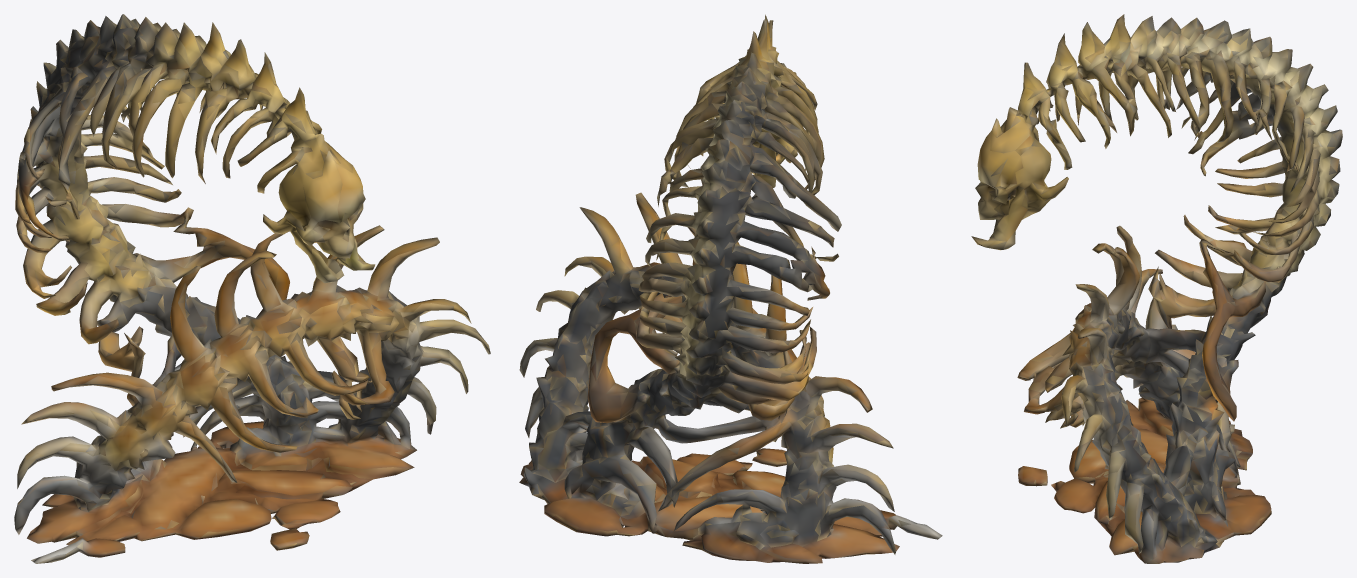
The model's file is Necrophidius (3)_final.glb.
3 renders of one model, left to right at view 1: azimuth 30°, elevation 25°; view 2: azimuth 150°, elevation 25°; view 3: azimuth 270°, elevation 25°, orthographic. The views are drawn at different scales.
Visible parts, largest first — view 1: Mesh1.0; view 2: Mesh1.0; view 3: Mesh1.0.
Part boxes in pixels (left/top/right/bottom): Mesh1.0: left=14, top=14, right=490, bottom=563; Mesh1.0: left=519, top=14, right=942, bottom=563; Mesh1.0: left=971, top=14, right=1342, bottom=563.
Size of the model in its own units: 1.87 by 2 by 1.49.
Materials: 1 (1 with a texture image).
